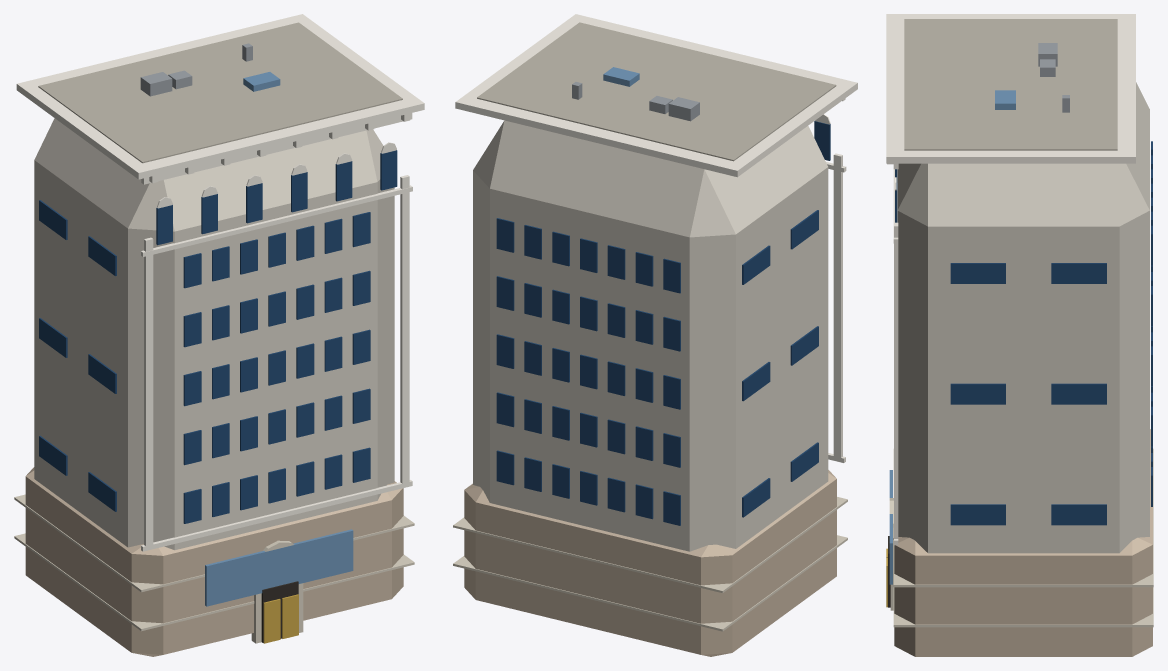
File: office_f8_punched_w18.glb
3 views of the same model, side by side, from view 1: azimuth 30°, elevation 25°; view 2: azimuth 150°, elevation 25°; view 3: azimuth 270°, elevation 25° (orthographic). The views are drawn at different scales.
Visible parts, largest first — view 1: walls, base, roofslab, corn, baseglass, qpier, qpier.001, belt1, belt2, rustband, frieze, rustband.001 (+37 smaller); view 2: walls, base, roofslab, corn, qpier, rustband, rustband.001, sb.002, sb, sb.006, sb.008, sb.010 (+17 smaller); view 3: walls, roofslab, base, corn, qpier.001, rustband.001, rustband, sb.003, sb.007, sb.001, sb.005, sb.009 (+2 smaller).
Part boxes in pixels (x1=…): walls: x1=34, y1=118, x2=394, y2=550; base: x1=25, y1=467, x2=403, y2=656; roofslab: x1=38, y1=22, x2=402, y2=163; corn: x1=16, y1=14, x2=424, y2=179; baseglass: x1=205, y1=529, x2=353, y2=606; qpier: x1=144, y1=237, x2=153, y2=550; qpier.001: x1=400, y1=175, x2=409, y2=484; belt1: x1=141, y1=480, x2=412, y2=551; belt2: x1=141, y1=185, x2=412, y2=256; rustband: x1=14, y1=533, x2=414, y2=631; frieze: x1=141, y1=113, x2=412, y2=184; rustband.001: x1=14, y1=494, x2=414, y2=592; walls: x1=473, y1=120, x2=828, y2=551; base: x1=464, y1=470, x2=836, y2=656; roofslab: x1=477, y1=22, x2=836, y2=161; corn: x1=455, y1=14, x2=857, y2=177; qpier: x1=833, y1=153, x2=842, y2=462; rustband: x1=453, y1=535, x2=847, y2=631; rustband.001: x1=453, y1=497, x2=847, y2=593; sb.002: x1=742, y1=478, x2=770, y2=517; sb: x1=790, y1=442, x2=818, y2=481; sb.006: x1=742, y1=362, x2=770, y2=401; sb.008: x1=790, y1=210, x2=818, y2=249; sb.010: x1=742, y1=245, x2=770, y2=284; walls: x1=897, y1=82, x2=1149, y2=553; roofslab: x1=904, y1=19, x2=1117, y2=150; base: x1=894, y1=429, x2=1152, y2=656; corn: x1=886, y1=14, x2=1135, y2=163; qpier.001: x1=894, y1=222, x2=898, y2=538; rustband.001: x1=893, y1=448, x2=1153, y2=587; rustband: x1=893, y1=587, x2=1153, y2=627; sb.003: x1=1051, y1=504, x2=1106, y2=525; sb.007: x1=1051, y1=383, x2=1106, y2=404; sb.001: x1=950, y1=504, x2=1005, y2=525; sb.005: x1=950, y1=383, x2=1005, y2=404; sb.009: x1=950, y1=263, x2=1005, y2=283.
Bounding box in the file's own units: 19.3 × 33.3 × 15.28.
